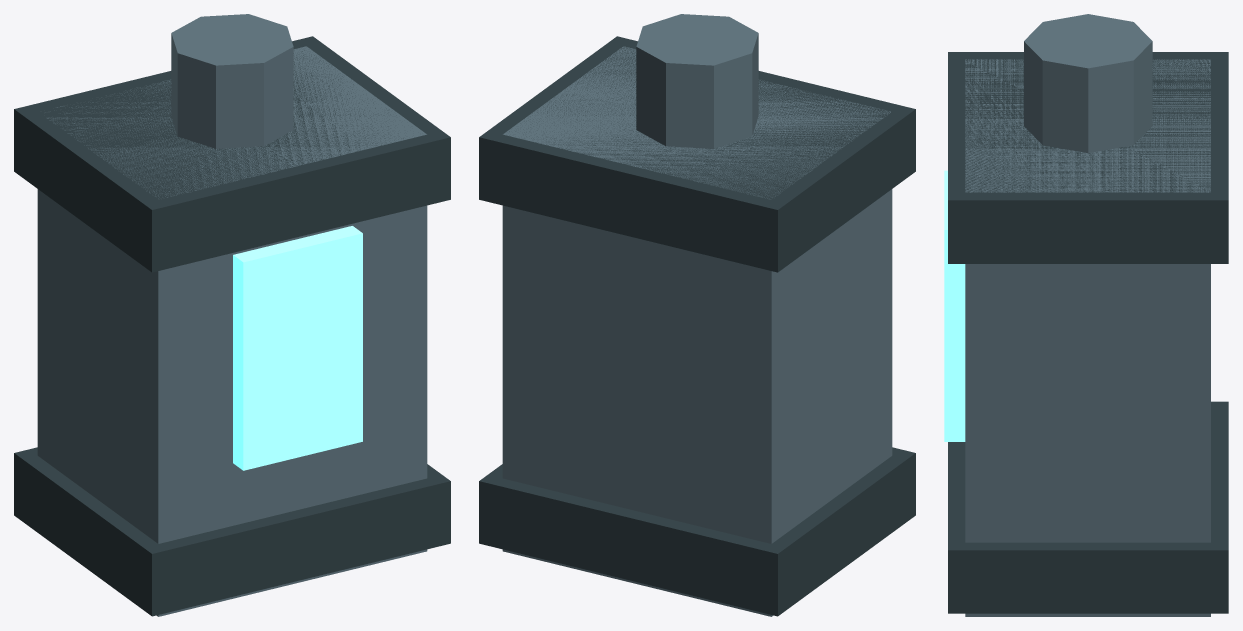
Rendered from battery.glb.
3 renders of one model, left to right at view 1: azimuth 30°, elevation 25°; view 2: azimuth 150°, elevation 25°; view 3: azimuth 270°, elevation 25°, orthographic.
Visible parts, largest first — view 1: Battery cell, Cell band.001, Cell band, Charge strip, Terminal; view 2: Battery cell, Cell band.001, Cell band, Terminal; view 3: Battery cell, Cell band.001, Cell band, Terminal, Charge strip.
Boxes of the visible parts, x1=… form: Battery cell: x1=37, y1=46, x2=427, y2=616; Cell band.001: x1=14, y1=36, x2=450, y2=272; Cell band: x1=14, y1=447, x2=450, y2=616; Charge strip: x1=233, y1=226, x2=362, y2=470; Terminal: x1=171, y1=14, x2=293, y2=148; Battery cell: x1=502, y1=46, x2=892, y2=616; Cell band.001: x1=479, y1=36, x2=915, y2=272; Cell band: x1=479, y1=447, x2=915, y2=616; Terminal: x1=636, y1=14, x2=758, y2=148; Battery cell: x1=965, y1=59, x2=1210, y2=616; Cell band.001: x1=948, y1=52, x2=1228, y2=263; Cell band: x1=948, y1=401, x2=1228, y2=613; Terminal: x1=1024, y1=14, x2=1152, y2=153; Charge strip: x1=944, y1=170, x2=965, y2=441.
Size of the model in its own units: 0.3 by 0.48 by 0.243.
